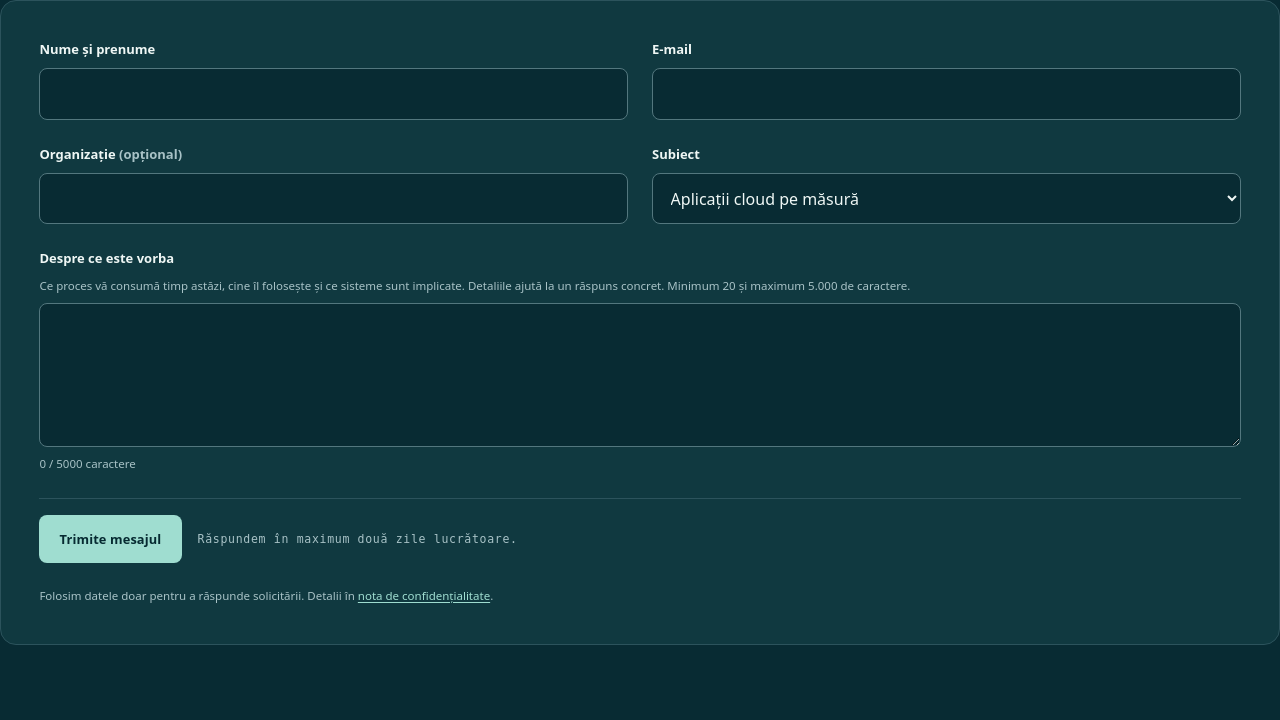
Test: <ContactForm /> › afișează erori și mută focusul pe primul câmp invalid
This screenshot has width=1280, height=720.
Click the button "Trimite mesajul" at (110, 539), box [39,515,182,563]
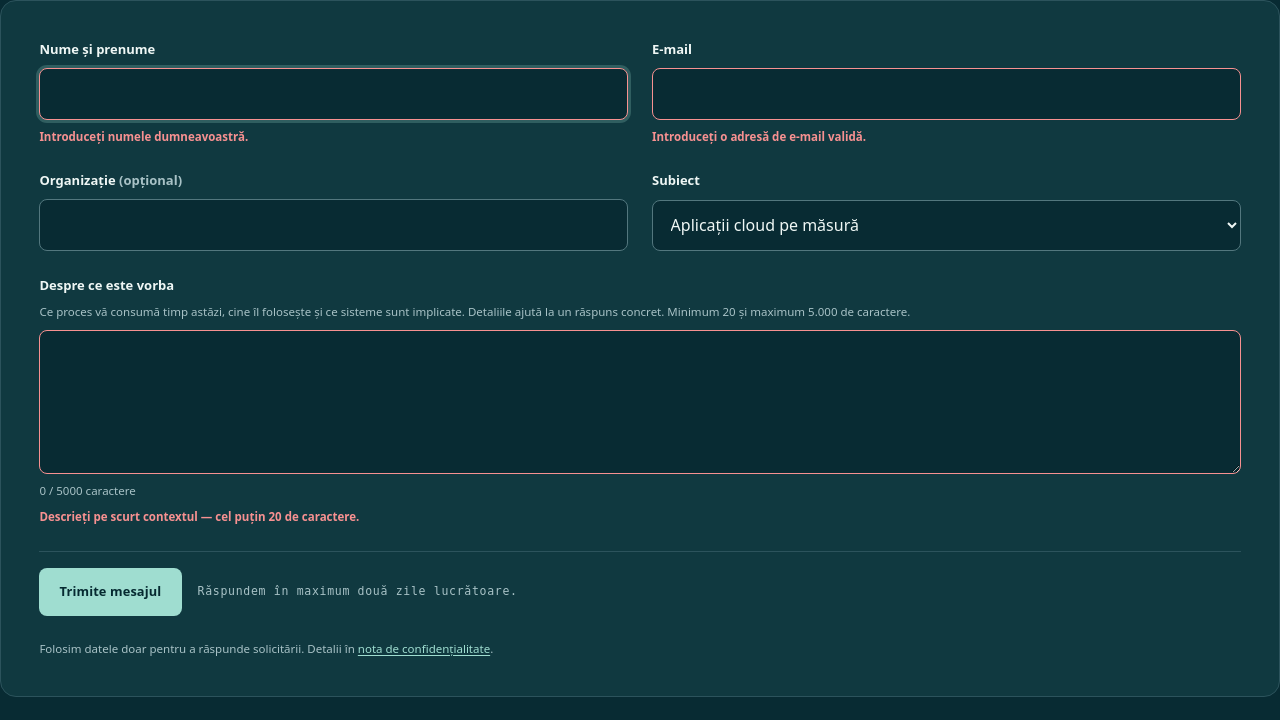
expect the text "Introduceți numele dumneavoastră." is shown: met, box [39,129,248,144]
